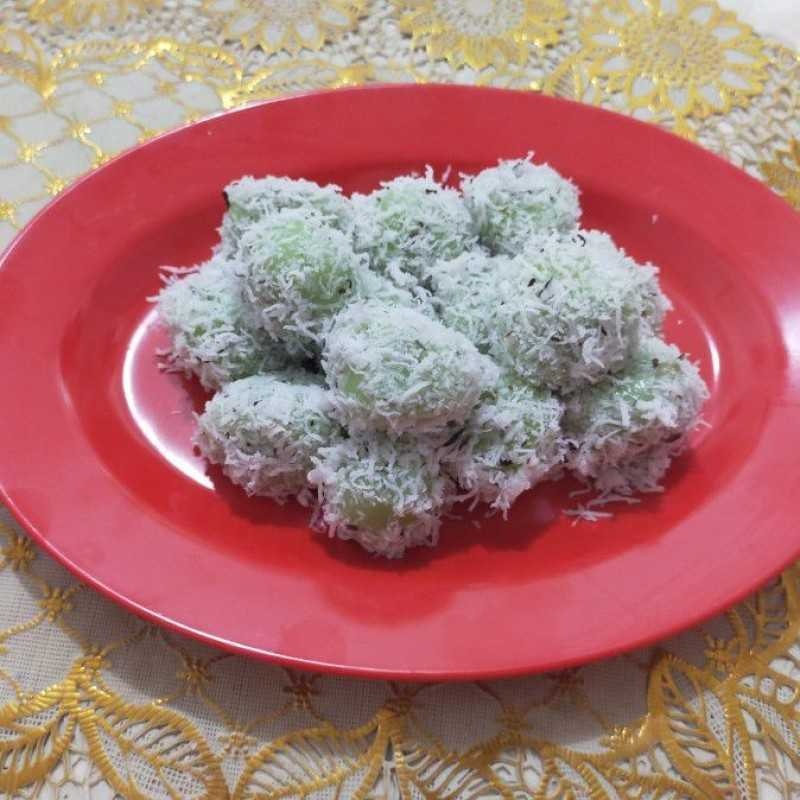klepon: (457, 212, 709, 402), (280, 308, 487, 443)
